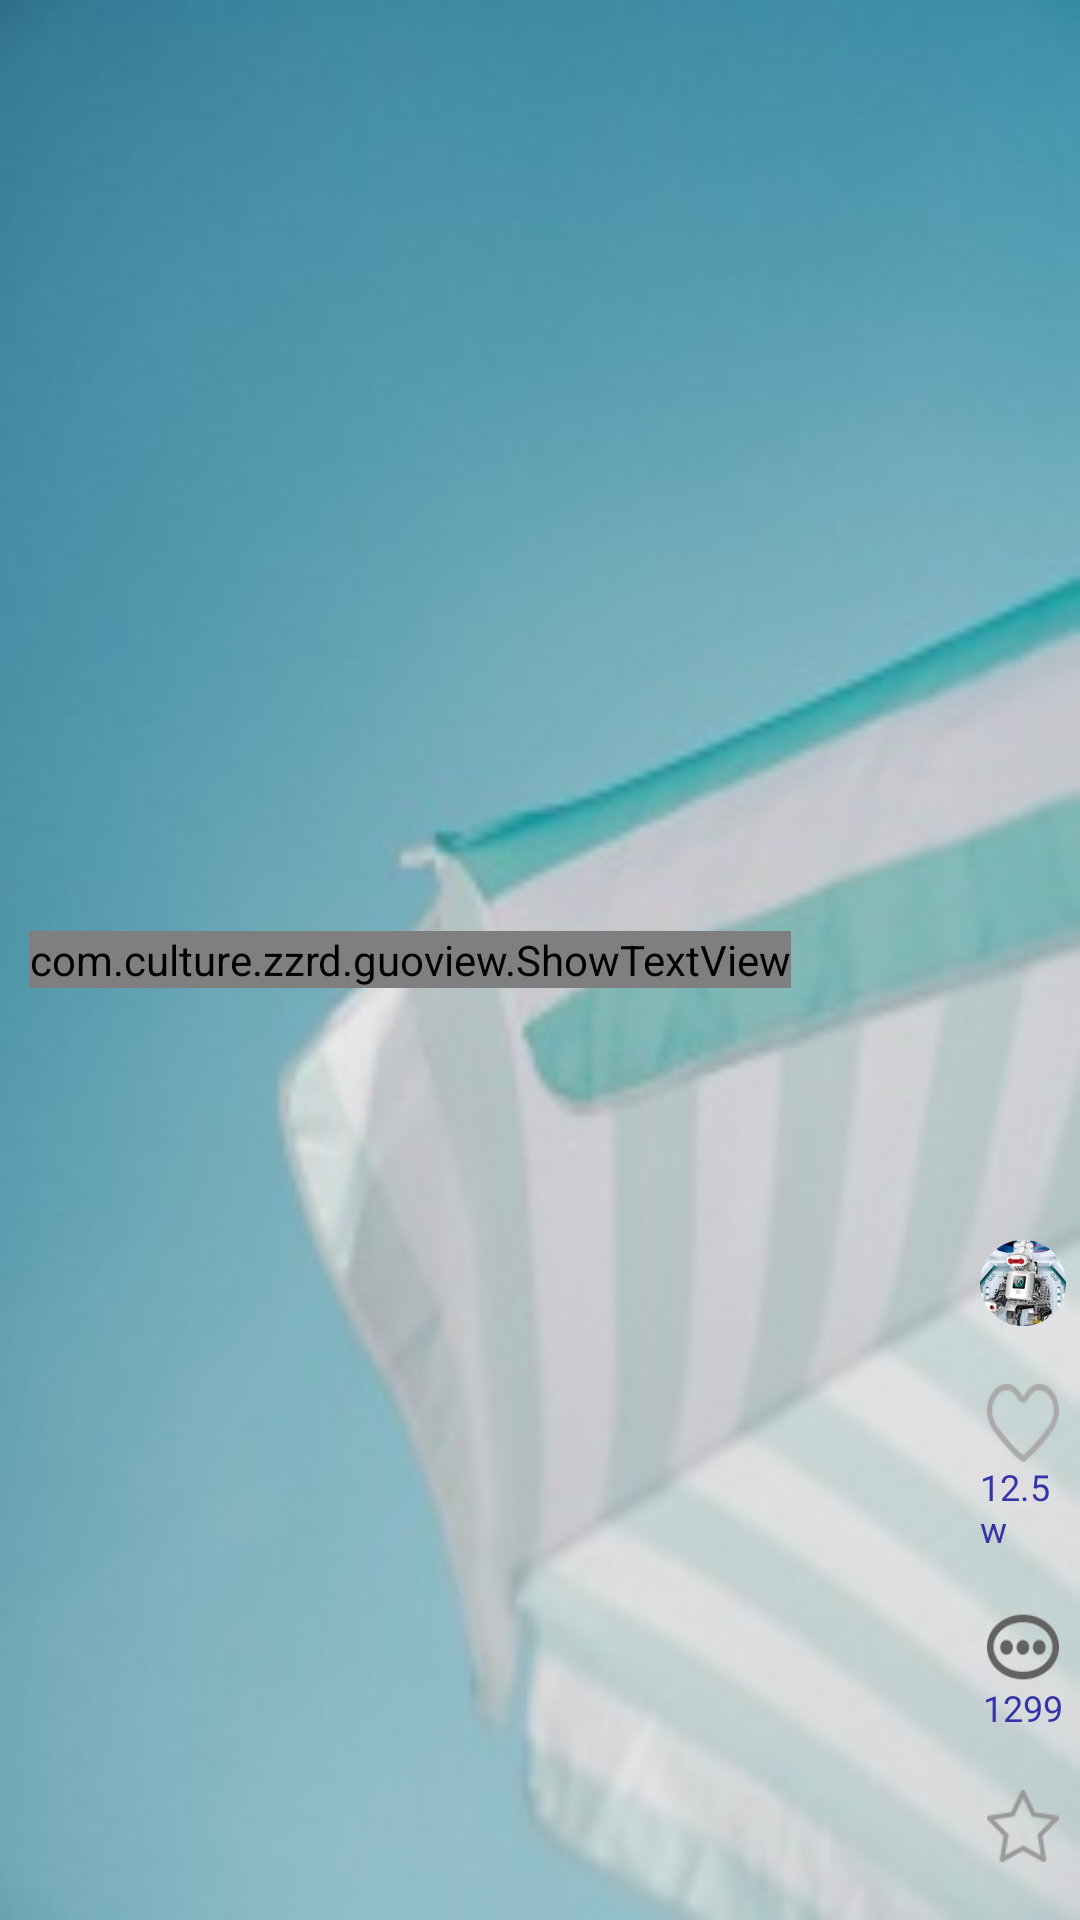

Named icons in this screenshot (1080 × 1920) and their centers, [x,y]:
collection: [1023,1826]
fragment head right: [1023,1283]
like: [1023,1423]
